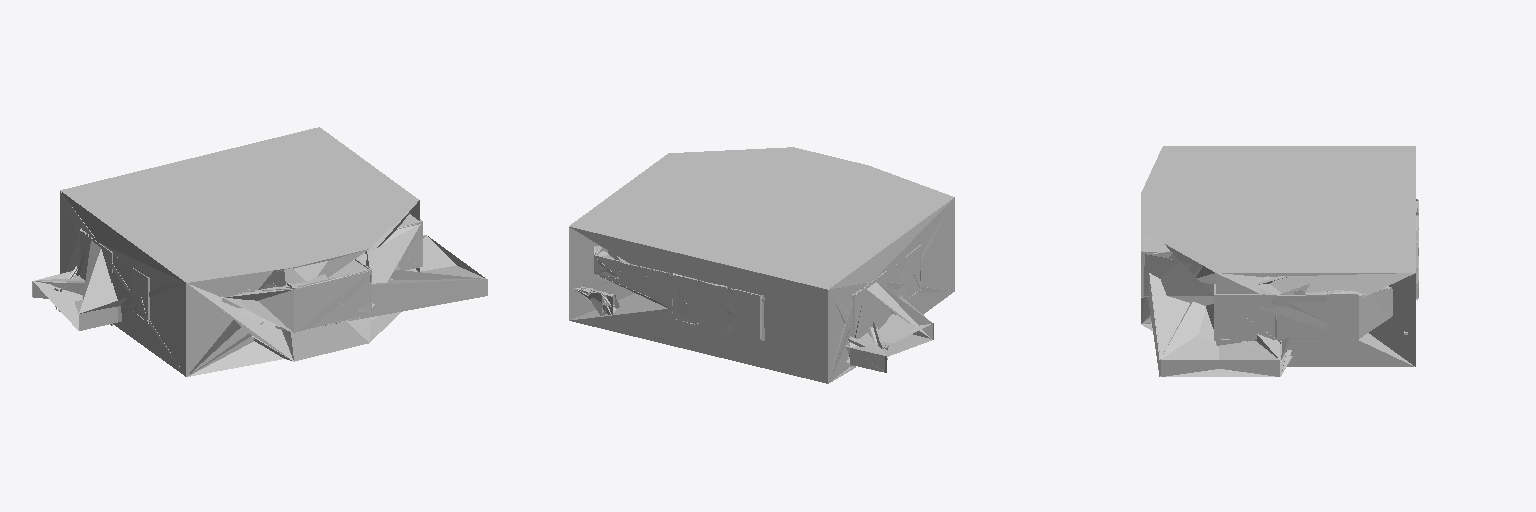
3 renders of one model, left to right at view 1: azimuth 30°, elevation 25°; view 2: azimuth 150°, elevation 25°; view 3: azimuth 270°, elevation 25°, orthographic.
Visible parts, largest first — view 1: wood, floor_primary_marble, celling, frame_window, glass_window, railling, floor_secondary_wooden, shower, pillow, leather_sofa, walls, wall_lamp; view 2: floor_secondary_wooden, floor_primary_marble, celling, pillow, wood, frame_window, shower, walls, railling, bathroom_props, glass_window, wall_lamp; view 3: wood, floor_secondary_wooden, railling, glass_window, pillow, floor_primary_marble, shower, walls, leather_sofa, wall_lamp, frame_window, celling.
Boxes of the visible parts, x1,y1,x2,y2 form: wood: [32, 133, 487, 374]; floor_primary_marble: [63, 127, 413, 376]; celling: [60, 134, 418, 337]; frame_window: [60, 130, 422, 376]; glass_window: [64, 129, 418, 373]; railling: [61, 128, 412, 325]; floor_secondary_wooden: [71, 127, 415, 359]; shower: [80, 129, 417, 373]; pillow: [60, 129, 419, 376]; leather_sofa: [65, 129, 377, 360]; walls: [110, 129, 414, 375]; wall_lamp: [63, 128, 373, 230]; floor_secondary_wooden: [570, 147, 950, 383]; floor_primary_marble: [571, 148, 952, 315]; celling: [570, 148, 953, 303]; pillow: [570, 149, 930, 383]; wood: [569, 157, 933, 372]; frame_window: [577, 148, 954, 383]; shower: [572, 147, 950, 366]; walls: [570, 148, 868, 382]; railling: [569, 153, 945, 366]; bathroom_props: [594, 149, 886, 379]; glass_window: [569, 197, 952, 319]; wall_lamp: [575, 157, 842, 288]; wood: [1141, 149, 1418, 376]; floor_secondary_wooden: [1141, 146, 1415, 272]; railling: [1146, 146, 1415, 326]; glass_window: [1141, 146, 1415, 366]; pillow: [1142, 148, 1414, 366]; floor_primary_marble: [1141, 146, 1415, 272]; shower: [1141, 148, 1418, 340]; walls: [1141, 194, 1418, 339]; leather_sofa: [1142, 146, 1415, 323]; wall_lamp: [1169, 146, 1415, 271]; frame_window: [1141, 147, 1418, 339]; celling: [1141, 146, 1415, 272].
Bounding box in the file's own units: 44.9 × 11.81 × 31.55.